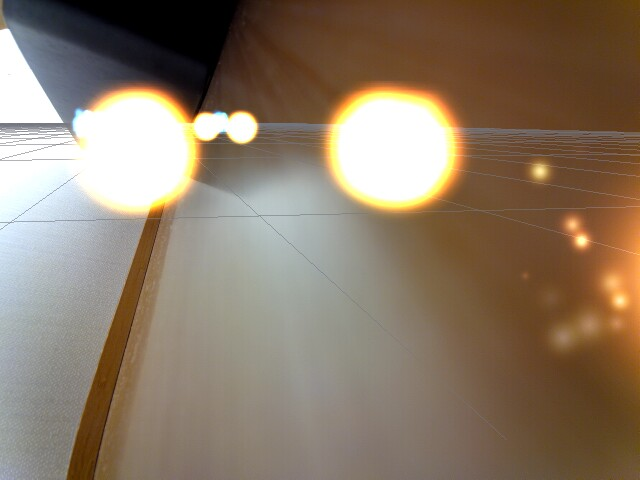fire: (70, 81, 199, 219), (324, 84, 459, 213), (229, 109, 258, 148), (194, 110, 220, 141)
